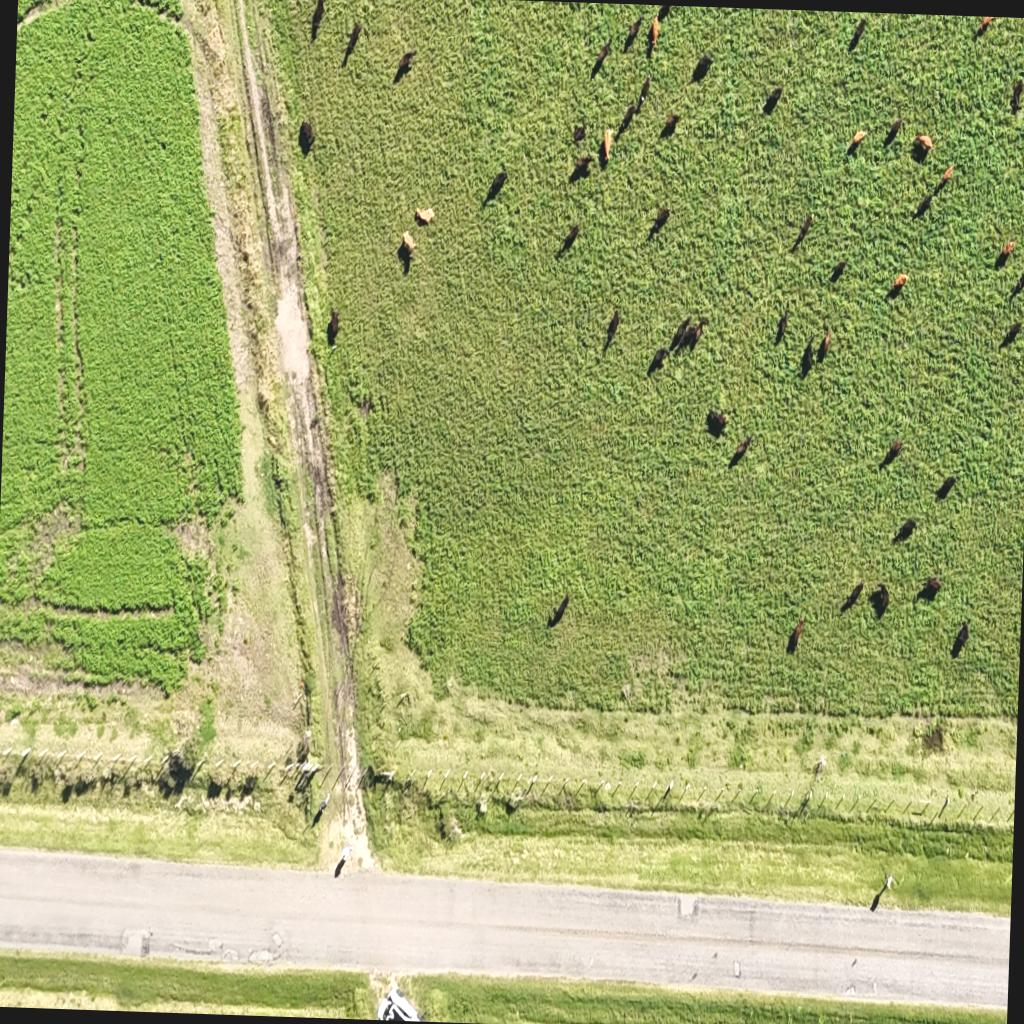cow: (876, 436, 904, 471), (868, 583, 890, 620), (486, 166, 508, 202), (618, 100, 638, 139), (670, 318, 691, 354), (344, 18, 362, 60), (842, 578, 864, 610), (1001, 316, 1023, 348), (394, 48, 416, 80), (549, 590, 569, 625), (568, 153, 592, 182), (594, 36, 612, 74), (398, 230, 416, 268), (691, 52, 713, 83), (848, 16, 868, 50), (794, 211, 813, 246), (996, 238, 1018, 268), (730, 434, 752, 464), (951, 620, 969, 656), (684, 319, 703, 353), (559, 222, 579, 254), (648, 346, 669, 376), (650, 204, 671, 234), (788, 617, 806, 652), (624, 16, 642, 51), (892, 516, 916, 542), (918, 574, 942, 600), (604, 306, 620, 344), (1009, 259, 1024, 299), (762, 84, 782, 114), (706, 409, 727, 437), (310, 0, 325, 39), (884, 114, 902, 146), (799, 338, 814, 376), (774, 305, 788, 344), (636, 81, 650, 120), (660, 110, 679, 138), (816, 329, 832, 362), (412, 202, 434, 226), (935, 474, 955, 500), (829, 258, 847, 286), (916, 190, 934, 218), (1010, 77, 1024, 112), (912, 132, 932, 156), (598, 130, 612, 164), (847, 128, 866, 153), (327, 308, 340, 342), (890, 272, 908, 294), (977, 16, 994, 36), (650, 16, 660, 50), (655, 4, 672, 24), (940, 164, 954, 186), (572, 122, 585, 144)
